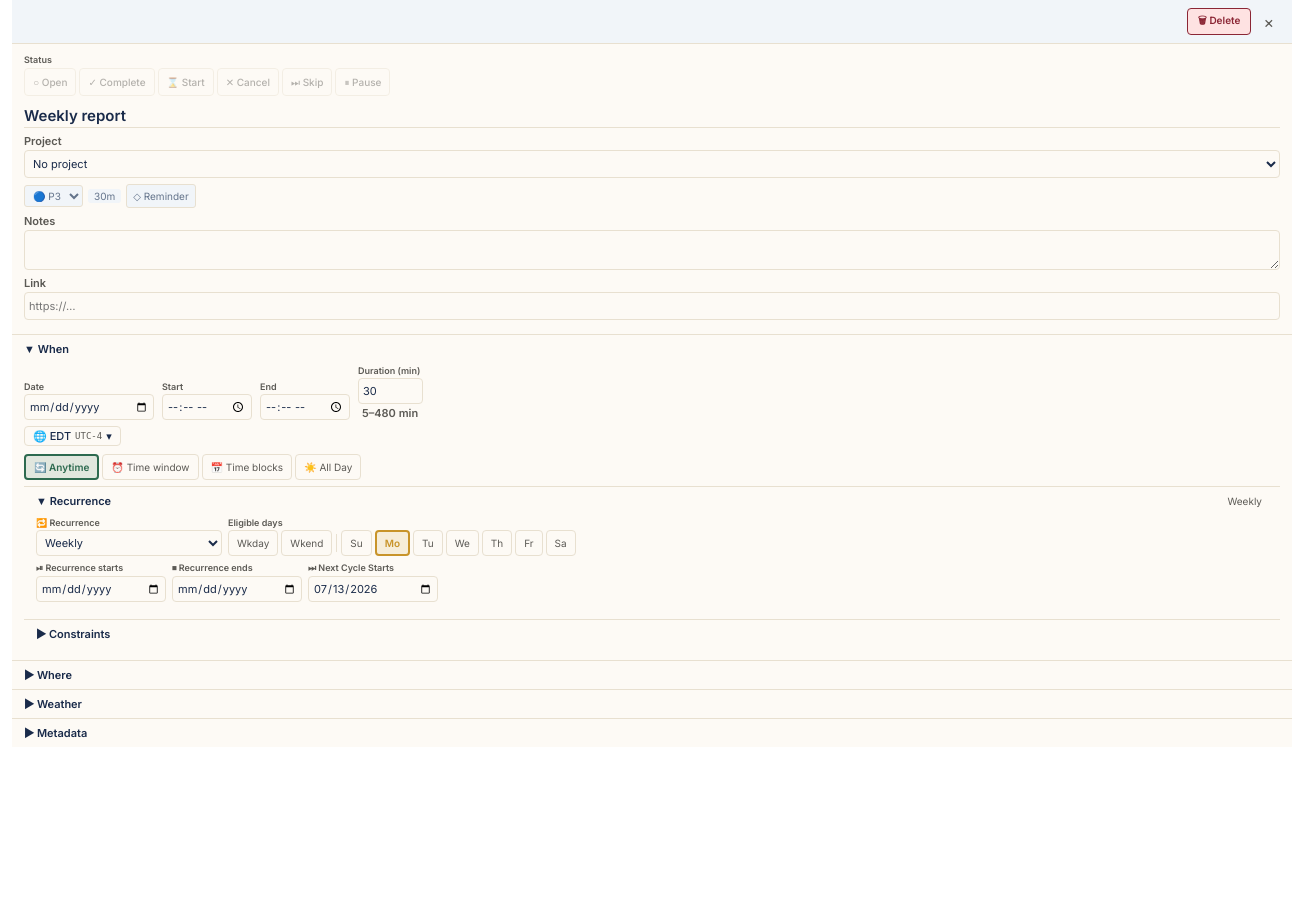
it: 999.1110 VALIDATION: a pattern-invalid date snaps forward to the next date the recur pattern allows, with a notice
In the date field labelled "Next Cycle Starts": (373, 589) [308, 576, 438, 602], type "2026-07-22"
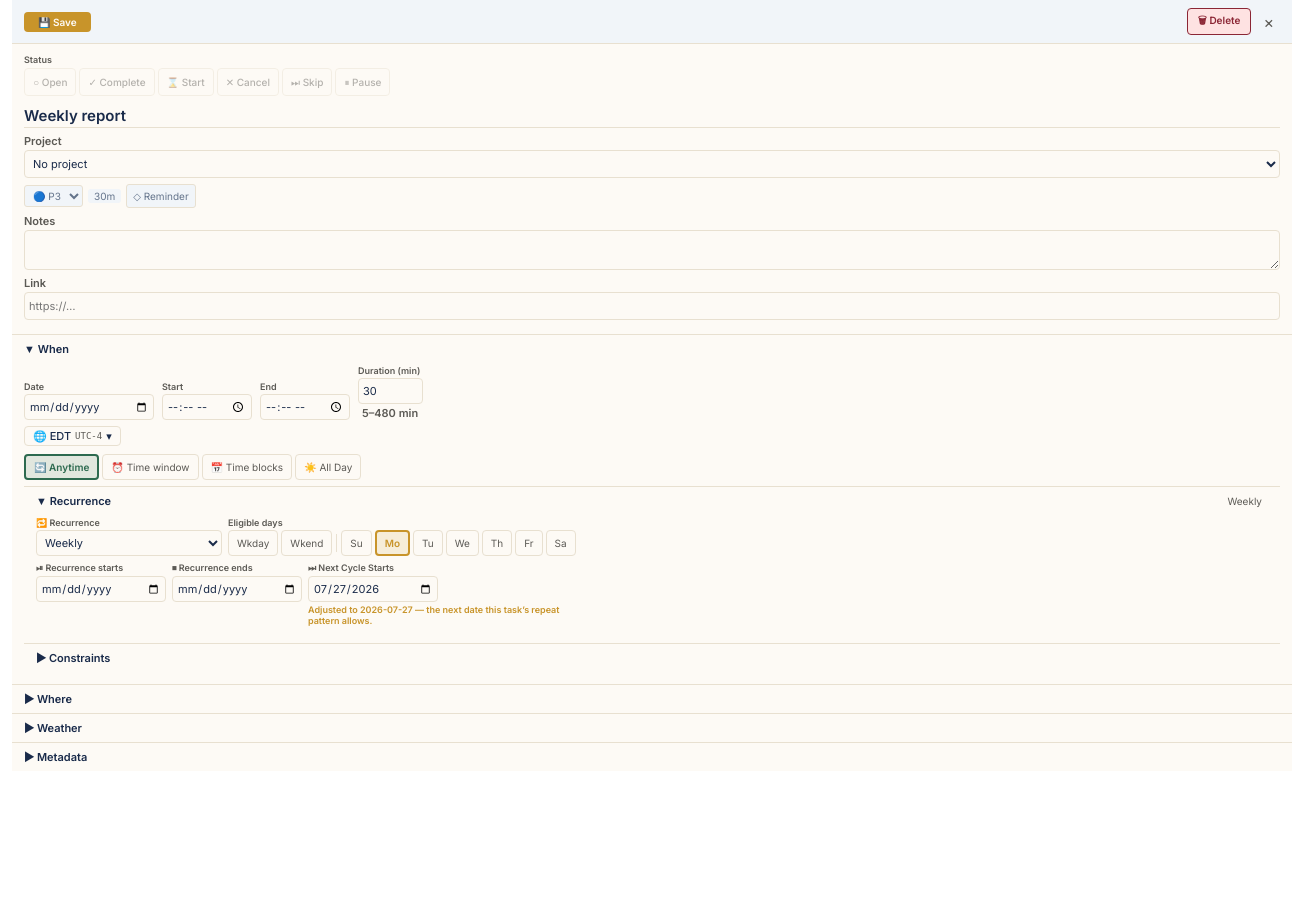
Expected: the date field labelled "Next Cycle Starts" holds "2026-07-27", [308, 576, 438, 602]
Expected: the message shows "Adjusted to 2026-07-27", [308, 604, 559, 626]
